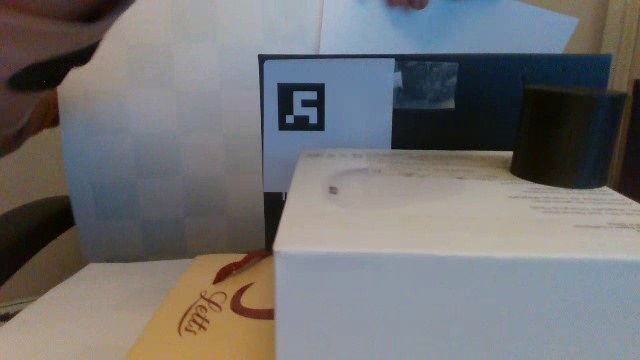cylindre: (505, 74, 636, 199)
